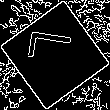L_E: (27, 36, 83, 74)
